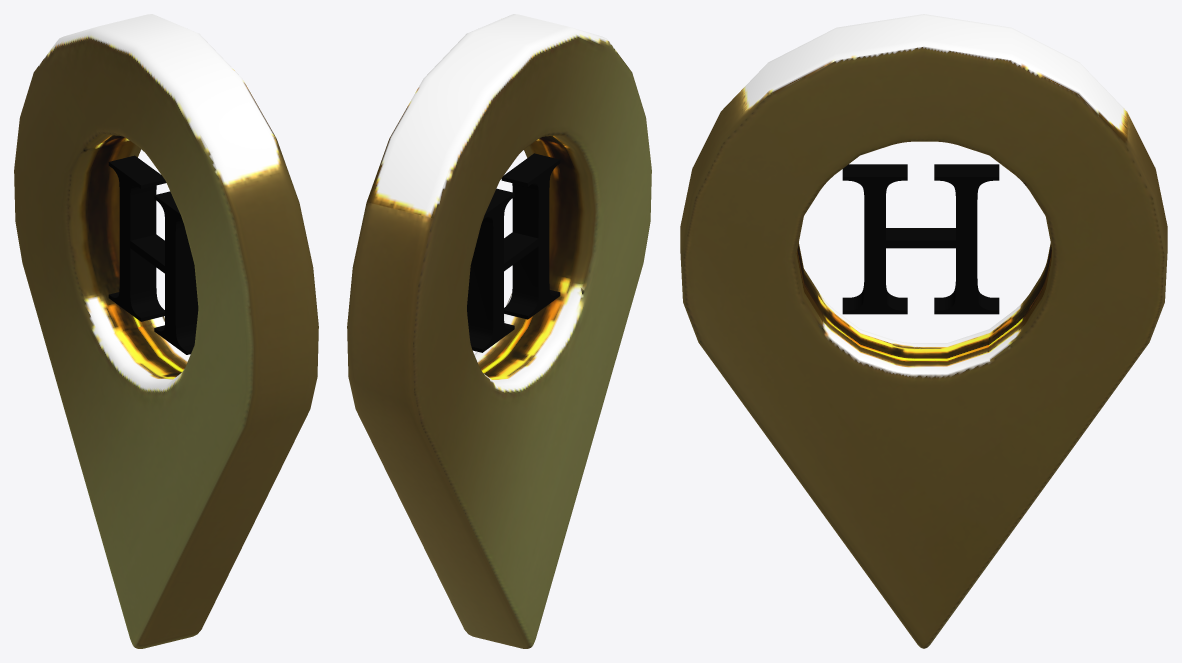
File: locationGold.gltf
3 renders of one model, left to right at view 1: azimuth 30°, elevation 25°; view 2: azimuth 150°, elevation 25°; view 3: azimuth 270°, elevation 25°, orthographic.
Visible parts, largest first — view 1: Circle002, TextPlus001.001; view 2: Circle002, TextPlus001.001; view 3: Circle002, TextPlus001.001.
Part boxes in pixels (x1=…): Circle002: x1=14, y1=14, x2=318, y2=648; TextPlus001.001: x1=108, y1=155, x2=198, y2=354; Circle002: x1=347, y1=14, x2=651, y2=648; TextPlus001.001: x1=467, y1=153, x2=560, y2=352; Circle002: x1=680, y1=14, x2=1167, y2=648; TextPlus001.001: x1=842, y1=164, x2=999, y2=314.
Size of what is drawn, in the model's own units: 0.1104 by 0.8983 by 0.6526.
2 materials, 1 textured.
